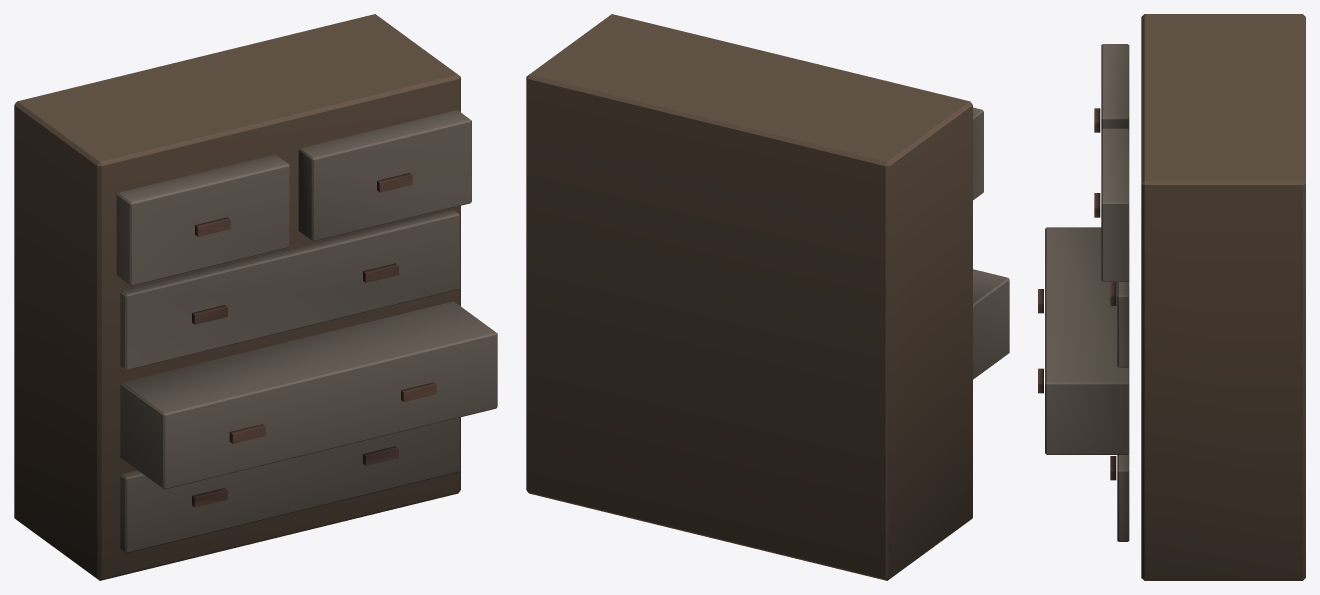
The model's file is prop.tansu.glb.
The picture shows the model from 3 angles, left to right: view 1: azimuth 30°, elevation 25°; view 2: azimuth 150°, elevation 25°; view 3: azimuth 270°, elevation 25°; orthographic projection. The views are drawn at different scales.
Visible parts, largest first — view 1: LOD0; view 2: LOD0; view 3: LOD0.
Boxes of the visible parts, bbox=[...] form: LOD0: bbox=[14, 14, 497, 580]; LOD0: bbox=[526, 14, 1009, 580]; LOD0: bbox=[1038, 14, 1305, 580].
Size of what is drawn, in the model's own units: 1 by 1.1 by 0.6675.
